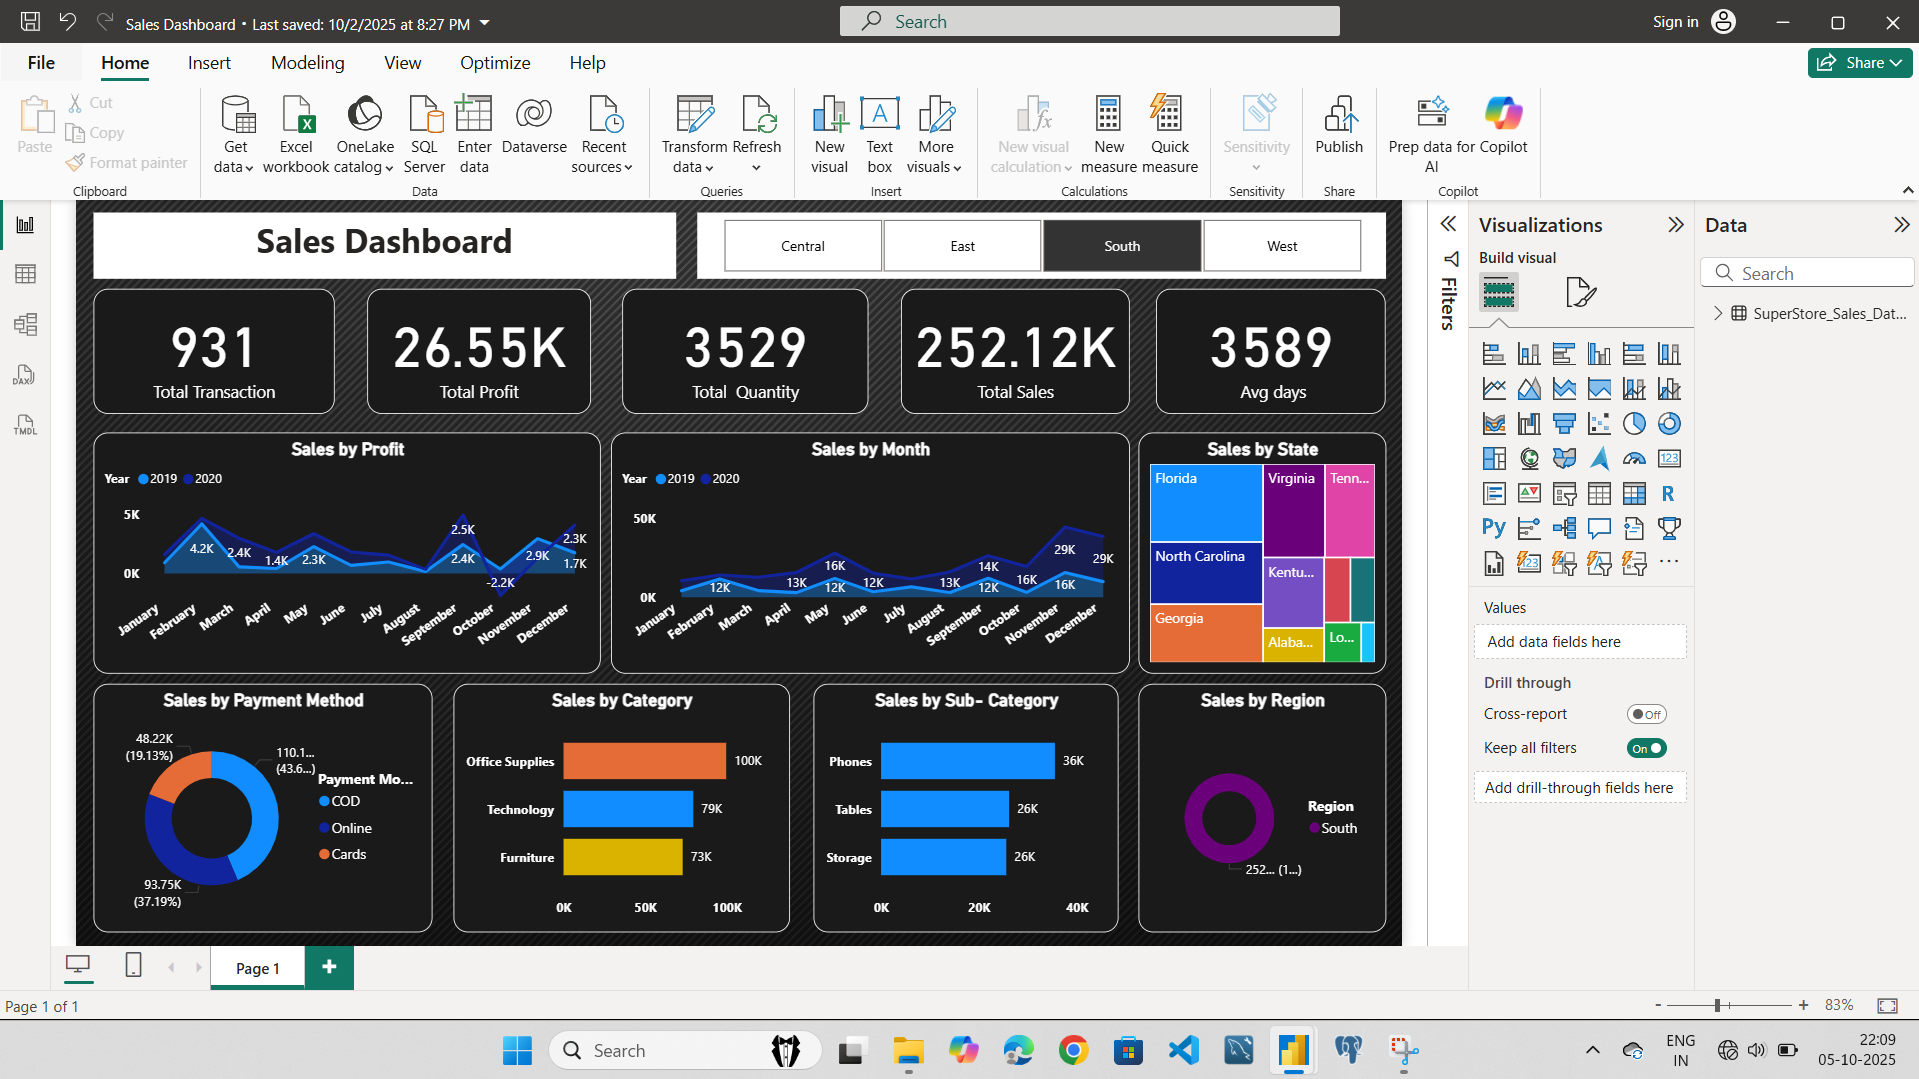

The dashboard page shown, as its layout file describes it:
{"tool":"powerbi","page":{"name":"Page 1","canvas":[1280,720],"ordinal":0},"visuals":[{"type":"clusteredBarChart","title":" Sales by Category","fields":{"Category":["SuperStore_Sales_Dataset.Category"],"Y":["Sum(SuperStore_Sales_Dataset.Sales)"]},"box":[364.3,466.9,324.5,240.1],"z":0},{"type":"clusteredBarChart","title":" Sales by Sub- Category","fields":{"Y":["Sum(SuperStore_Sales_Dataset.Sales)"],"Category":["SuperStore_Sales_Dataset.Sub-Category"]},"box":[711.8,466.9,294.4,240.1],"z":1},{"type":"stackedAreaChart","title":" Sales by Month ","fields":{"Y":["Sum(SuperStore_Sales_Dataset.Sales)"],"Category":["SuperStore_Sales_Dataset.Order Date.Variation.Date Hierarchy.Month"],"Series":["SuperStore_Sales_Dataset.Order Date.Variation.Date Hierarchy.Year"]},"box":[516.4,224.4,500.7,232.8],"z":3},{"type":"stackedAreaChart","title":" Sales by Profit ","fields":{"Category":["SuperStore_Sales_Dataset.Order Date.Variation.Date Hierarchy.Month"],"Series":["SuperStore_Sales_Dataset.Order Date.Variation.Date Hierarchy.Year"],"Y":["Sum(SuperStore_Sales_Dataset.Profit)"]},"box":[16.9,224.4,489.8,232.8],"z":4},{"type":"map","title":"Sales by State","fields":{"Category":["SuperStore_Sales_Dataset.State"],"Size":["Sum(SuperStore_Sales_Dataset.Sales)"]},"box":[1025.5,224.4,238.9,232.8],"z":5},{"type":"donutChart","title":" Sales by Region","fields":{"Y":["Sum(SuperStore_Sales_Dataset.Sales)"],"Category":["SuperStore_Sales_Dataset.Region"]},"box":[1025.5,466.9,238.9,240.1],"z":7},{"type":"donutChart","title":" Sales by Payment Method","fields":{"Y":["Sum(SuperStore_Sales_Dataset.Sales)"],"Category":["SuperStore_Sales_Dataset.Payment Mode"]},"box":[16.9,466.9,326.9,240.1],"z":8},{"type":"advancedSlicerVisual","fields":{"Values":["SuperStore_Sales_Dataset.Region"]},"box":[599.6,12.1,664.7,63.9],"z":9},{"type":"textbox","box":[16.9,12.1,562.2,63.9],"z":10},{"type":"card","fields":{"Values":["CountNonNull(SuperStore_Sales_Dataset.Order ID)"]},"box":[16.9,85.7,232.8,120.6],"z":11},{"type":"card","fields":{"Values":["Sum(SuperStore_Sales_Dataset.Profit)"]},"box":[281.1,85.7,216,120.6],"z":12},{"type":"card","fields":{"Values":["Sum(SuperStore_Sales_Dataset.Quantity)"]},"box":[527.2,85.7,237.7,120.6],"z":13},{"type":"card","fields":{"Values":["Sum(SuperStore_Sales_Dataset.Sales)"]},"box":[796.3,85.7,220.8,120.6],"z":14},{"type":"card","fields":{"Values":["Sum(SuperStore_Sales_Dataset.Avgdays)"]},"box":[1042.4,85.7,222,120.6],"z":15}]}

Visuals, with their boxes on the page's 1280x720 design canvas (x1, y1, x2, y2). These are canvas units, not pixel positions in the 1919x1079 screenshot, which may show the page scaled, cropped or inside an application window:
" Sales by Category" clusteredBarChart: bbox(364, 467, 689, 707)
" Sales by Sub- Category" clusteredBarChart: bbox(712, 467, 1006, 707)
" Sales by Month " stackedAreaChart: bbox(516, 224, 1017, 457)
" Sales by Profit " stackedAreaChart: bbox(17, 224, 507, 457)
"Sales by State" map: bbox(1026, 224, 1264, 457)
" Sales by Region" donutChart: bbox(1026, 467, 1264, 707)
" Sales by Payment Method" donutChart: bbox(17, 467, 344, 707)
advancedSlicerVisual - SuperStore_Sales_Dataset.Region: bbox(600, 12, 1264, 76)
textbox: bbox(17, 12, 579, 76)
card - CountNonNull(SuperStore_Sales_Dataset.Order ID): bbox(17, 86, 250, 206)
card - Sum(SuperStore_Sales_Dataset.Profit): bbox(281, 86, 497, 206)
card - Sum(SuperStore_Sales_Dataset.Quantity): bbox(527, 86, 765, 206)
card - Sum(SuperStore_Sales_Dataset.Sales): bbox(796, 86, 1017, 206)
card - Sum(SuperStore_Sales_Dataset.Avgdays): bbox(1042, 86, 1264, 206)
